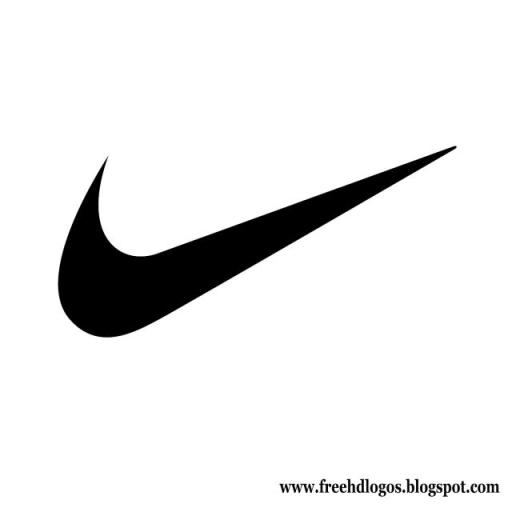Nike: (54, 139, 466, 341)
